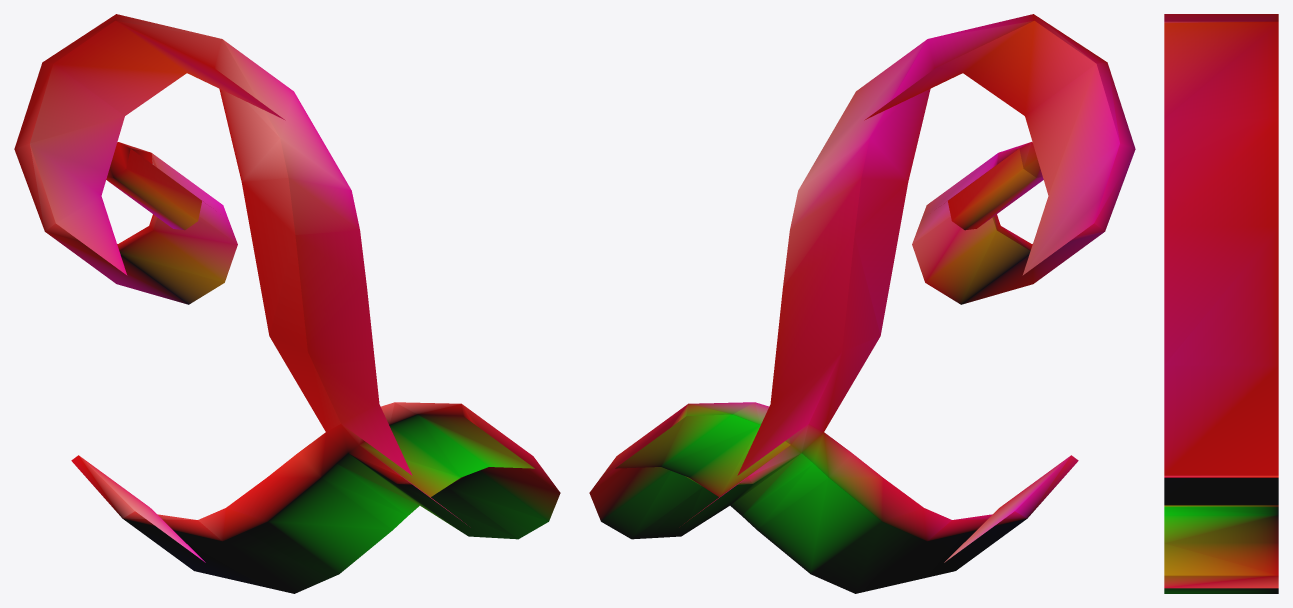
Rendered from ps2_save-icons_lupinthe3rdtreasureofthesorcererking.glb.
3 renders of one model, left to right at view 1: azimuth 30°, elevation 25°; view 2: azimuth 150°, elevation 25°; view 3: azimuth 270°, elevation 25°, orthographic. The views are drawn at different scales.
Parts seen in each view (by area): view 1: lupin.ico; view 2: lupin.ico; view 3: lupin.ico.
Part boxes in pixels (x1=…): lupin.ico: x1=14, y1=14, x2=560, y2=593; lupin.ico: x1=589, y1=14, x2=1135, y2=593; lupin.ico: x1=1164, y1=14, x2=1278, y2=593.
Bounding box in the file's own units: 3.82 × 4.26 × 1.
1 material, 1 textured.
